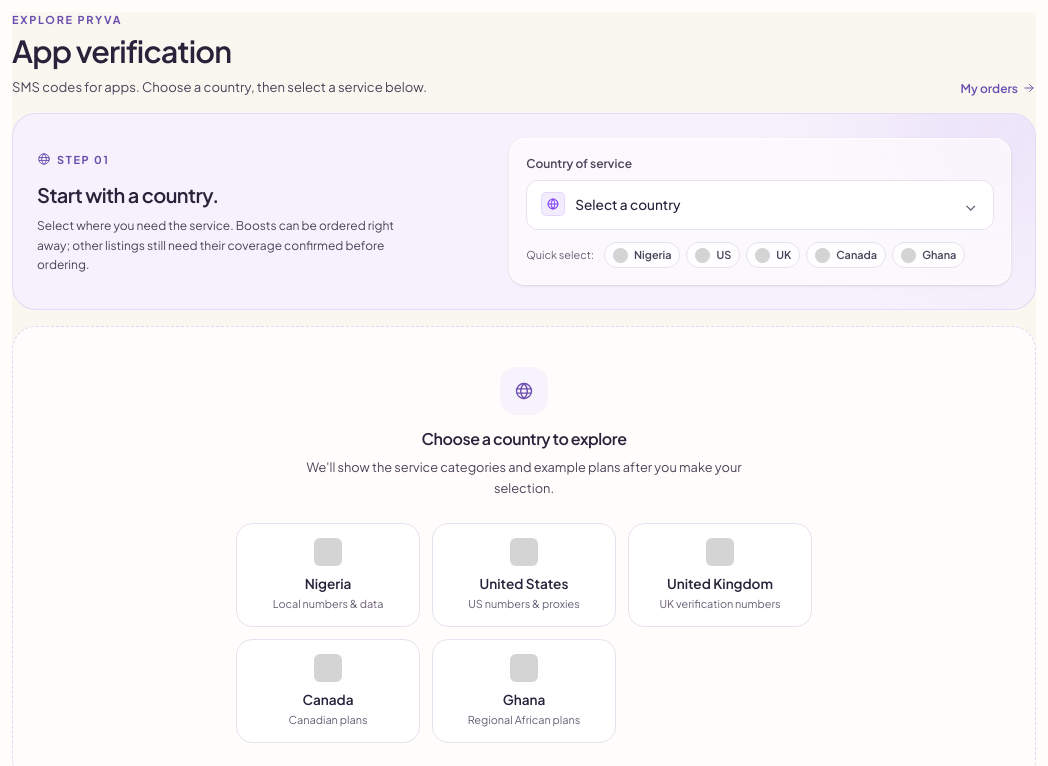
Test case: service explorer live listings › waits for a country and labels stock, indicative price and paused ordering
Click the button "US". click: (713, 255)
box: [686,242,740,268]
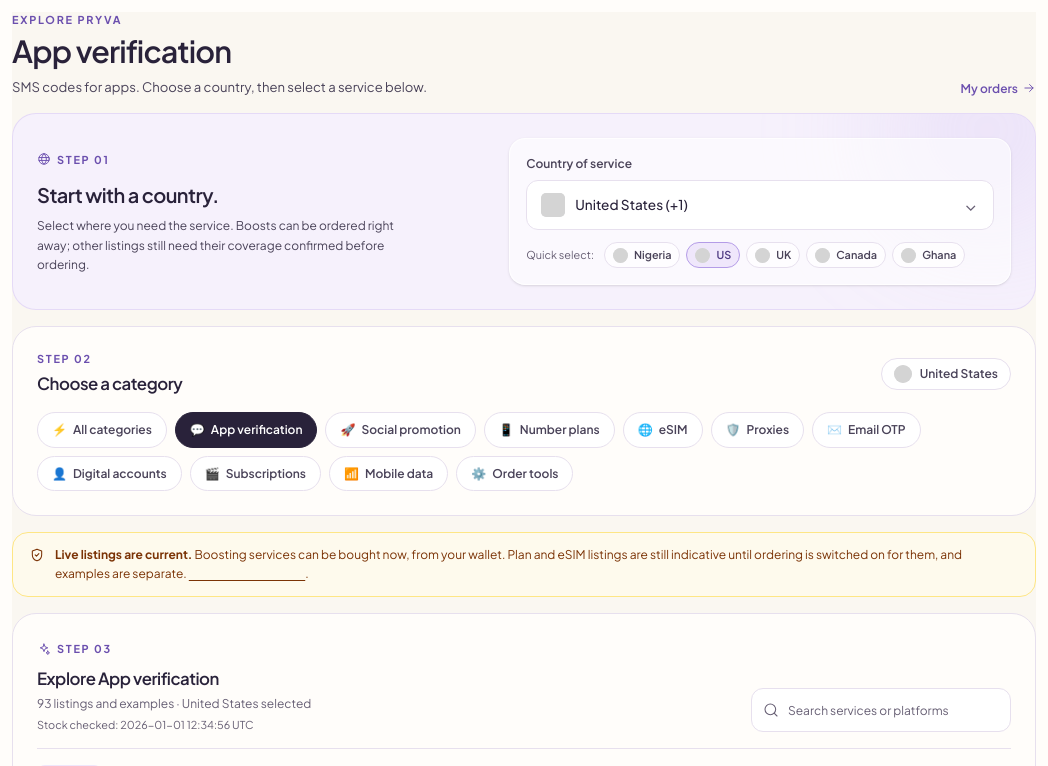
Expected: the text "Live listings are current." is shown, [55,547,192,562]
Expected: the text "2026-01-01 12:34:56 UTC" is shown, [120,718,253,731]
